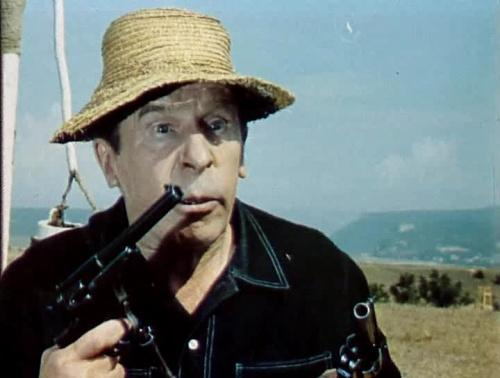Gun: (39, 184, 184, 368), (334, 301, 387, 378)
